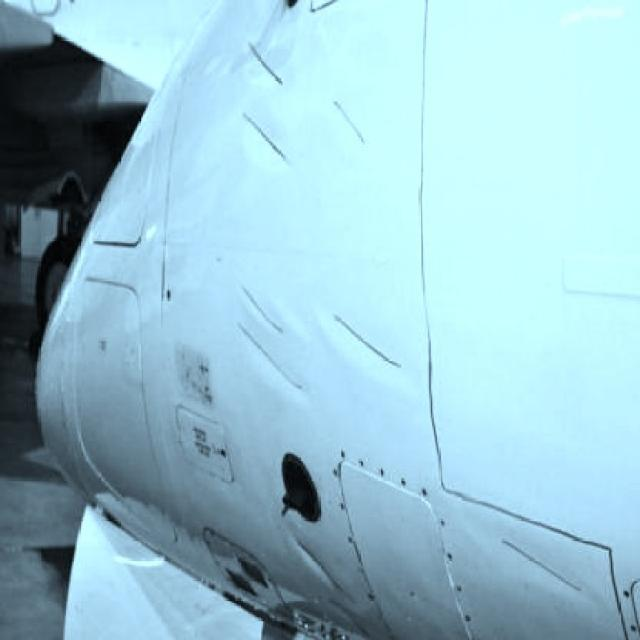dent: (483, 522, 591, 596), (240, 278, 302, 388), (330, 306, 404, 380), (294, 536, 354, 604), (242, 110, 290, 164), (338, 94, 369, 150), (246, 43, 289, 80)
